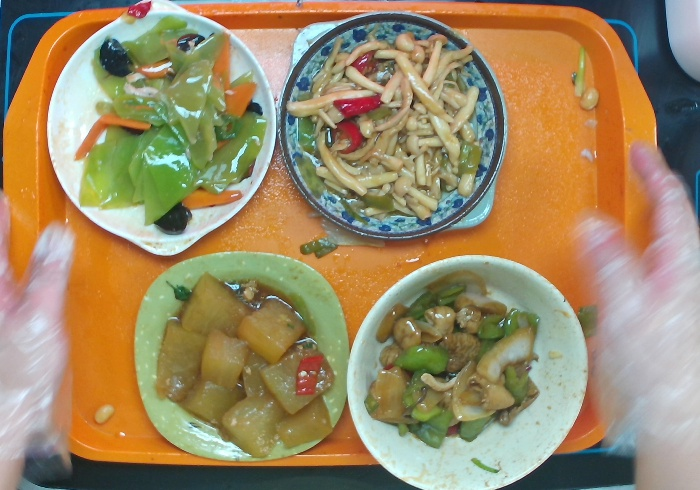NLDX-Bai_Se_Shuang_Er_Die: (44, 1, 279, 257)
NLDX-Bai_Se_Yuan_Wan: (344, 253, 591, 490)
NLDX-Lv_Hua_Fang_Die: (132, 249, 351, 464)
NLDX-Qing_Hua_Shuang_Er_Die: (276, 8, 511, 242)
